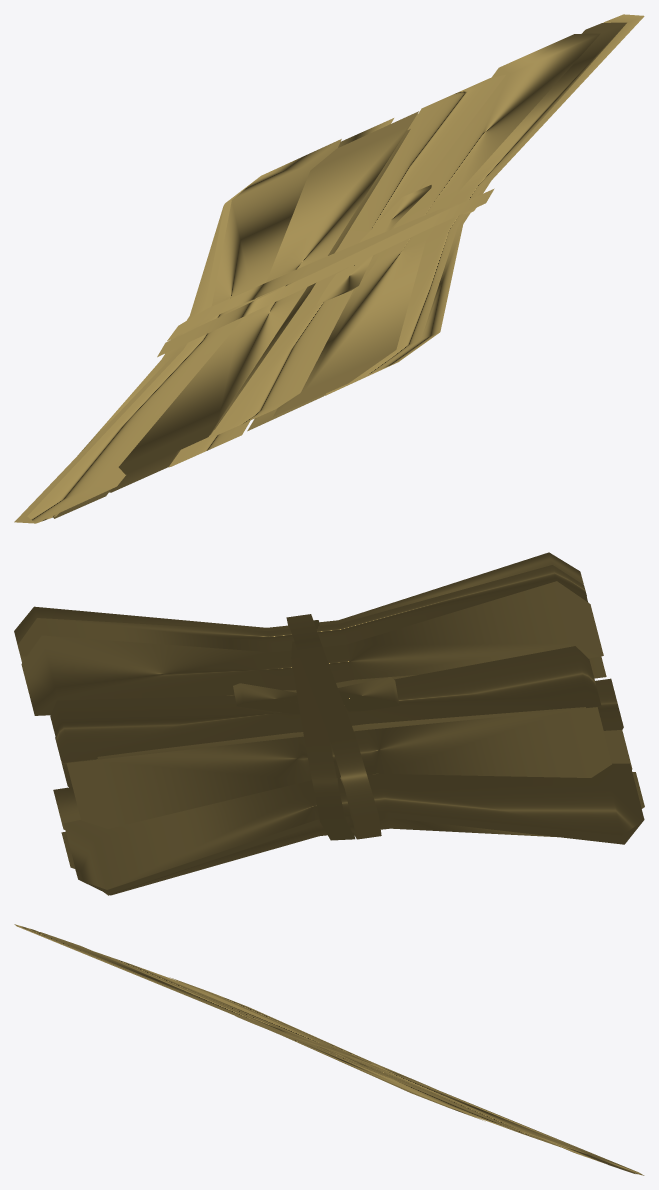
File: hay.glb
The picture shows the model from 3 angles, top to bottom: view 1: azimuth 30°, elevation 25°; view 2: azimuth 150°, elevation 25°; view 3: azimuth 270°, elevation 25°; orthographic projection. The views are drawn at different scales.
Visible parts, largest first — view 1: hay.source; view 2: hay.source; view 3: hay.source.
Boxes of the visible parts, x1=… form: hay.source: x1=14, y1=14, x2=644, y2=523; hay.source: x1=14, y1=552, x2=644, y2=895; hay.source: x1=14, y1=924, x2=644, y2=1175.
Bounding box in the file's own units: 3.21 × 1 × 3.2.
